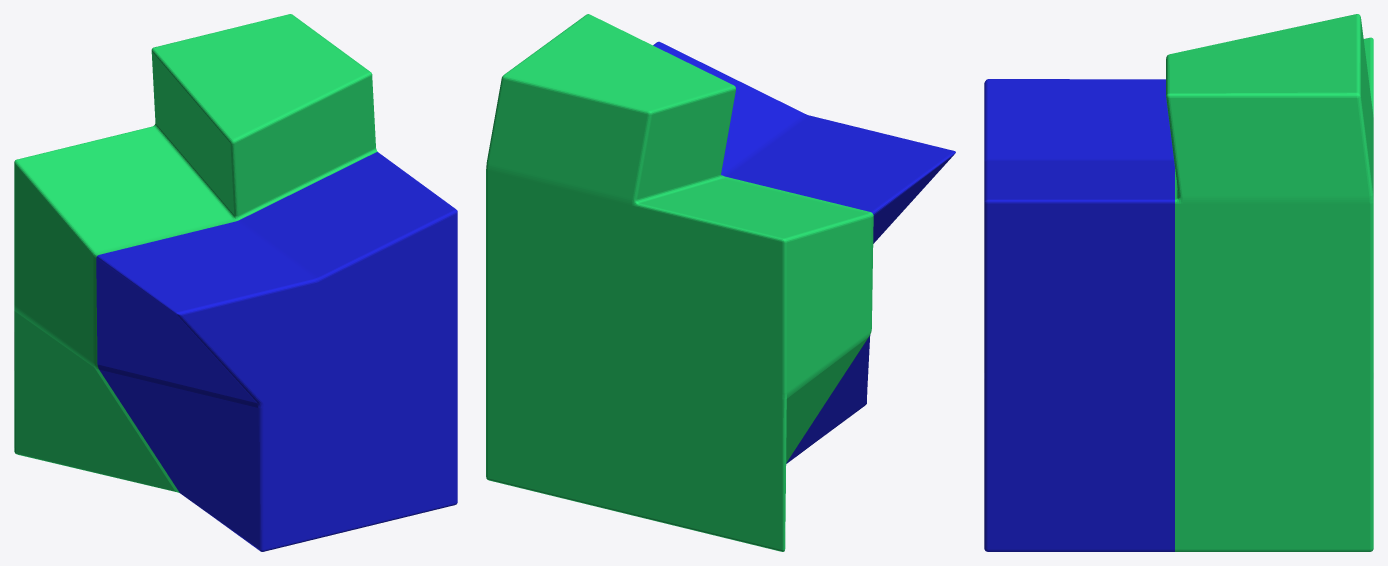
The model's file is testcube1.gltf.
3 views of the same model, side by side, from view 1: azimuth 30°, elevation 25°; view 2: azimuth 150°, elevation 25°; view 3: azimuth 270°, elevation 25° (orthographic). The views are drawn at different scales.
Parts seen in each view (by area): view 1: Cube; view 2: Cube; view 3: Cube.
Boxes of the visible parts, left/top/right/bottom form: Cube: left=14, top=14, right=457, bottom=551; Cube: left=486, top=14, right=955, bottom=551; Cube: left=984, top=14, right=1373, bottom=551.
Bounding box in the file's own units: 2 × 2.57 × 2.
